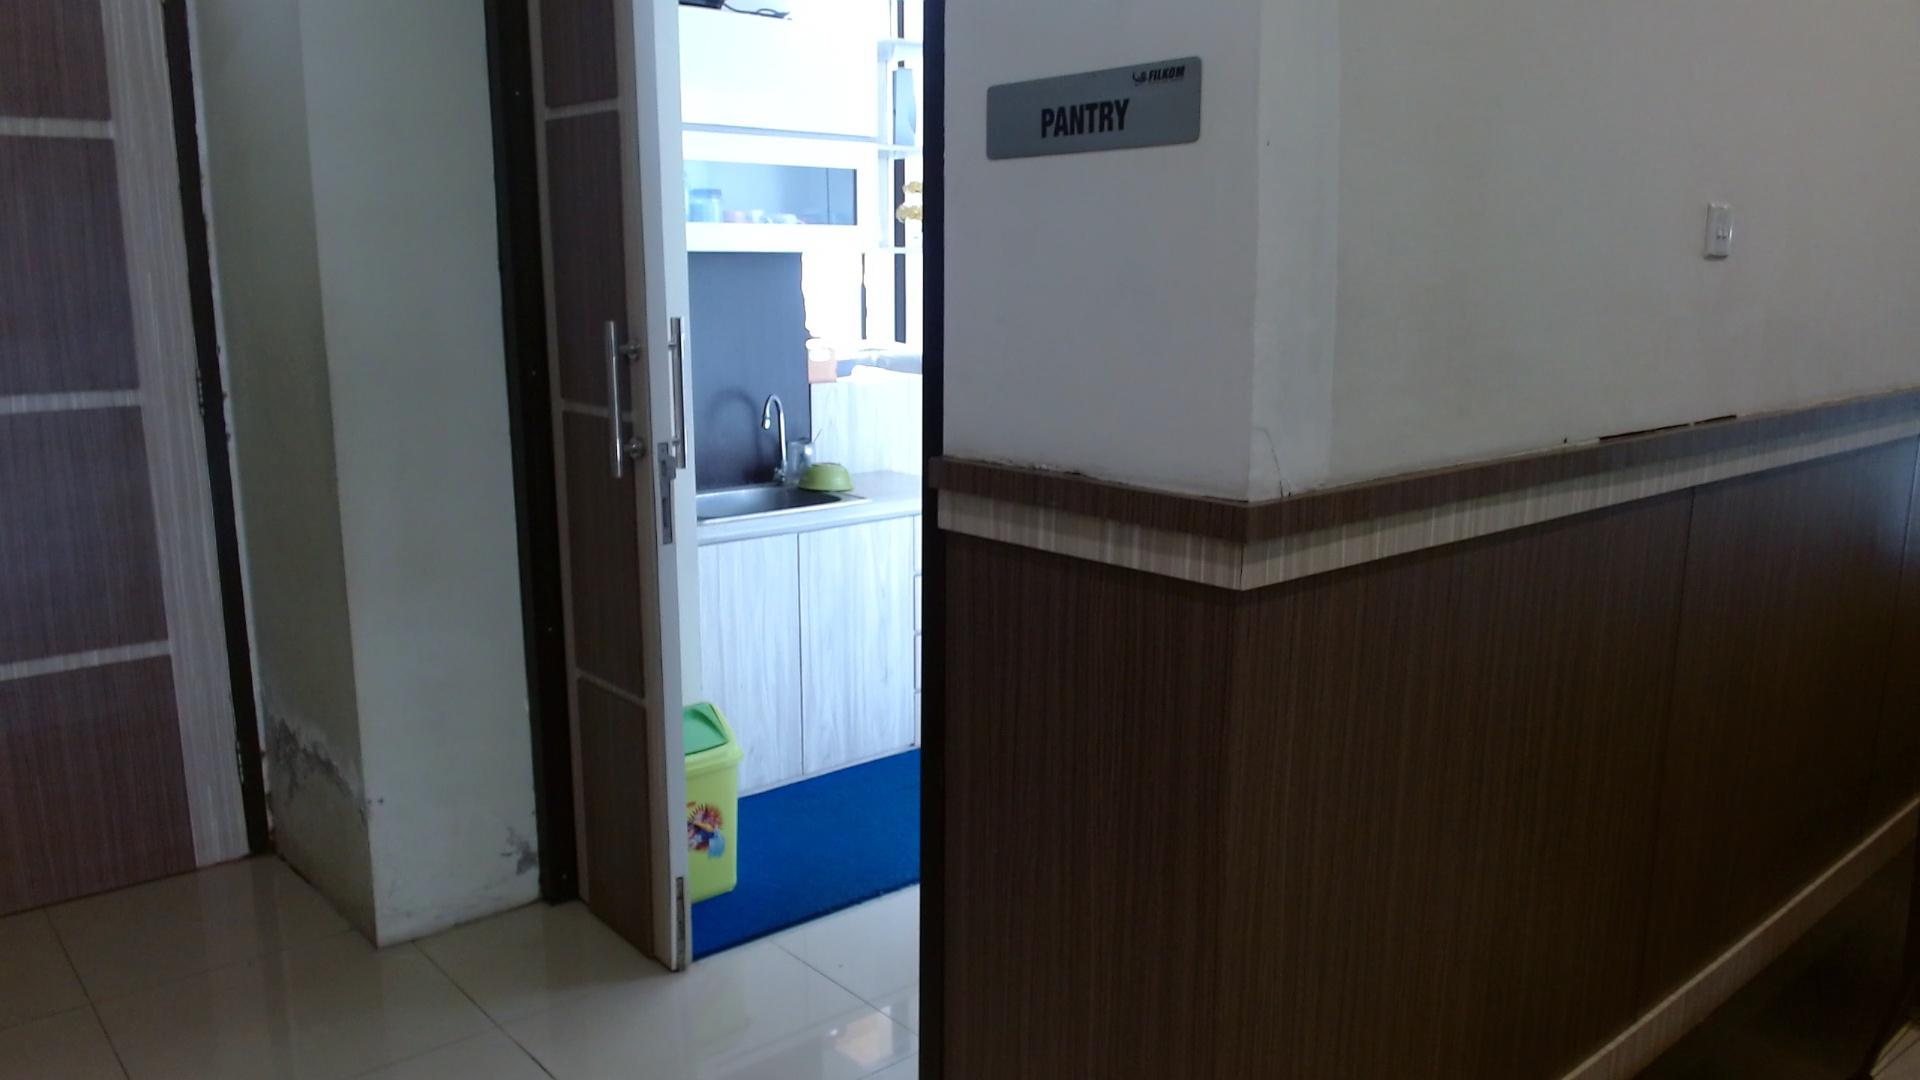plate: (984, 54, 1204, 162)
